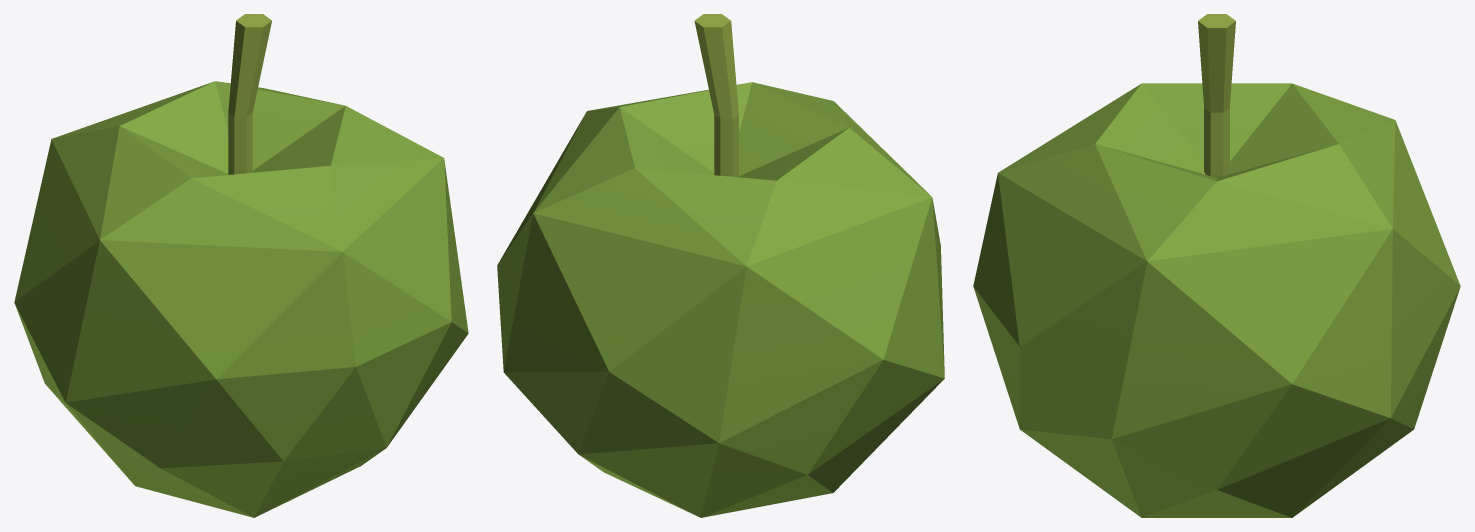
Rendered from Apple_01.fbx.
3 renders of one model, left to right at view 1: azimuth 30°, elevation 25°; view 2: azimuth 150°, elevation 25°; view 3: azimuth 270°, elevation 25°, orthographic. The views are drawn at different scales.
Visible parts, largest first — view 1: Apple_01; view 2: Apple_01; view 3: Apple_01.
Part boxes in pixels (left/top/right/bottom): Apple_01: left=14, top=14, right=468, bottom=517; Apple_01: left=497, top=14, right=944, bottom=517; Apple_01: left=973, top=14, right=1460, bottom=517.
Size of the model in its own units: 0.1576 by 0.1824 by 0.1638.
